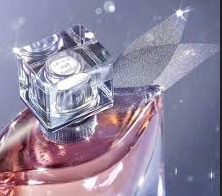lancome_la_vie_est_belle: (8, 4, 214, 196)
